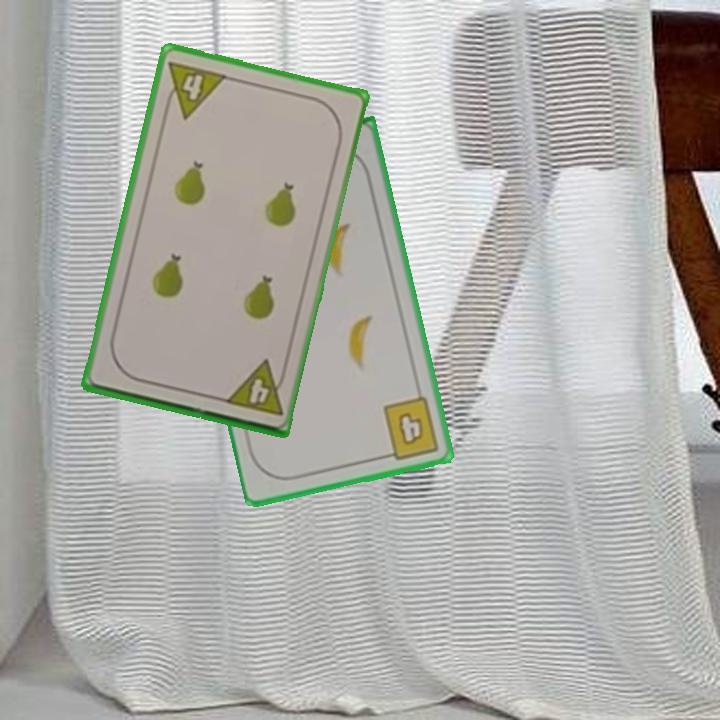4b: (379, 393, 443, 462)
4p: (159, 57, 230, 122), (221, 357, 290, 419)
